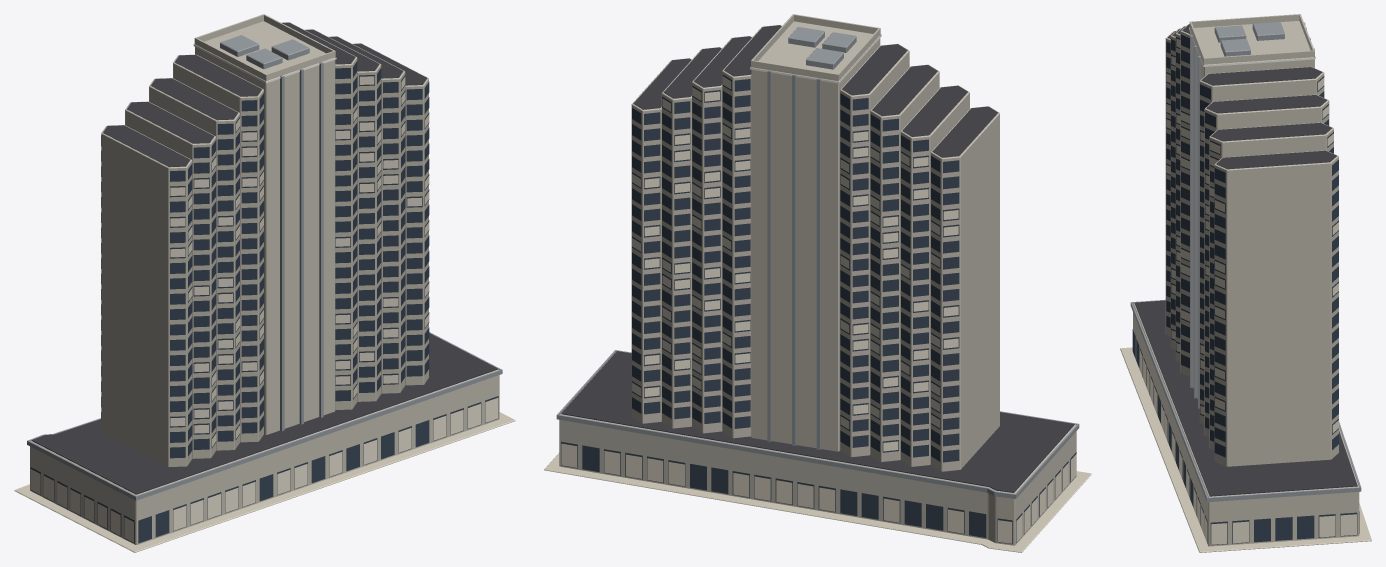
The model's file is 433-clay-street.glb.
3 views of the same model, side by side, from view 1: azimuth 30°, elevation 25°; view 2: azimuth 150°, elevation 25°; view 3: azimuth 270°, elevation 25° (orthographic). The views are drawn at different scales.
Visible parts, largest first — view 1: 433-clay-street_body, 433-clay-street_night_glow; view 2: 433-clay-street_body, 433-clay-street_night_glow; view 3: 433-clay-street_body, 433-clay-street_night_glow.
Part boxes in pixels (box(x1,y1,x2,y2)): 433-clay-street_body: box(14, 14, 515, 552); 433-clay-street_night_glow: box(30, 44, 498, 542); 433-clay-street_body: box(544, 14, 1091, 552); 433-clay-street_night_glow: box(561, 34, 1076, 543); 433-clay-street_body: box(1120, 14, 1371, 552); 433-clay-street_night_glow: box(1140, 27, 1356, 544).
Bounding box in the file's own units: 92.23 × 81 × 45.28.
